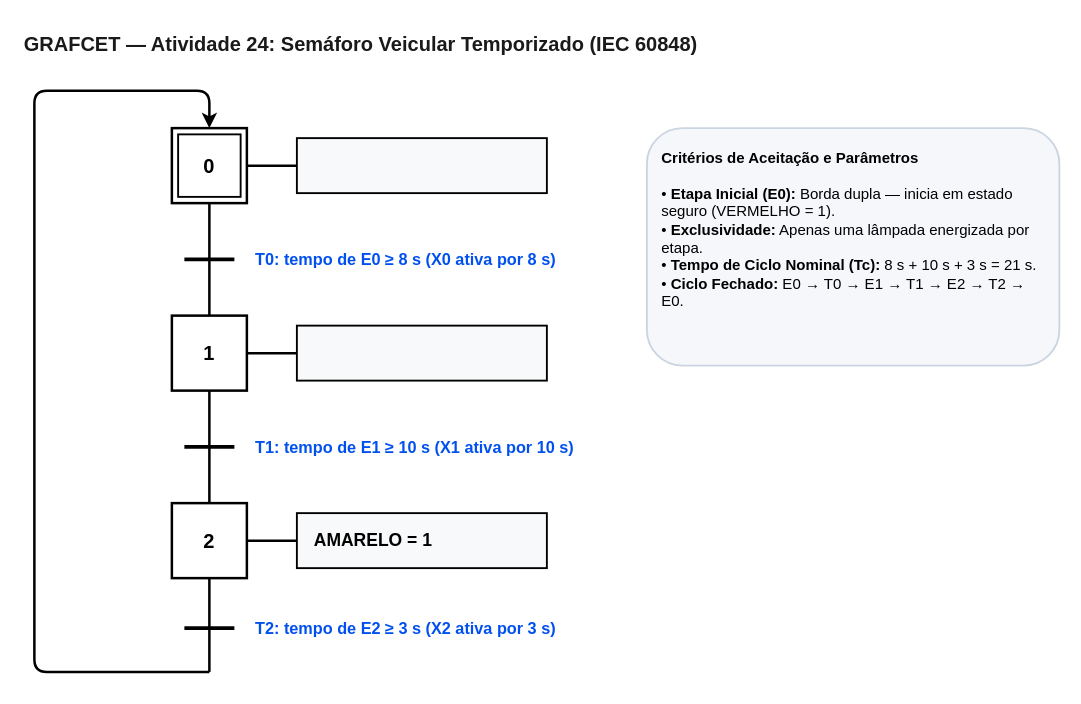
This 1081x704 diagram has some shape labels left out. Each missing label, with the centre of its shape:
VERDE = 1: the point at 421,352
VERMELHO = 1: the point at 421,165
